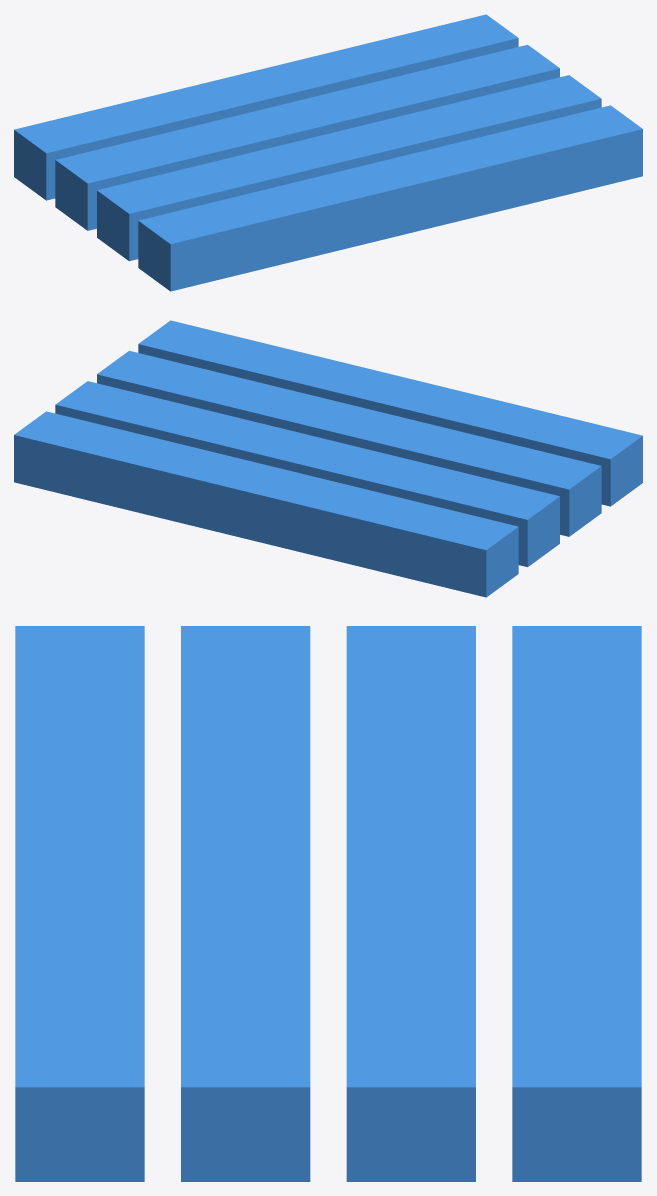
The model's file is BATTERY CRATE STACK V2__BATTERY CRATE L2__BATTERY MODULE V2 CLAMPS__BATTERY CELL BASE__CELL.glb.
3 renders of one model, top to bottom at view 1: azimuth 30°, elevation 25°; view 2: azimuth 150°, elevation 25°; view 3: azimuth 270°, elevation 25°, orthographic. The views are drawn at different scales.
Visible parts, largest first — view 1: CELL 1, CELL 17, CELL 16, CELL 32, CELL 6, CELL 19, CELL 28, CELL 29, CELL 3, CELL 18, CELL 21, CELL 23 (+20 smaller); view 2: CELL 25, CELL 9, CELL 24, CELL 8, CELL 29, CELL 10, CELL 30, CELL 5, CELL 15, CELL 27, CELL 31, CELL 6 (+20 smaller); view 3: CELL 1, CELL 2, CELL 3, CELL 6, CELL 7, CELL 8, CELL 9, CELL 11, CELL 12, CELL 13, CELL 14, CELL 15 (+20 smaller).
Boxes of the visible parts, bbox=[...] form: CELL 1: bbox=[166, 126, 642, 291]; CELL 17: bbox=[83, 65, 559, 230]; CELL 16: bbox=[125, 95, 601, 261]; CELL 32: bbox=[42, 35, 518, 200]; CELL 6: bbox=[146, 111, 622, 276]; CELL 19: bbox=[75, 59, 551, 224]; CELL 28: bbox=[26, 23, 502, 188]; CELL 29: bbox=[30, 26, 506, 191]; CELL 3: bbox=[158, 120, 634, 285]; CELL 18: bbox=[79, 62, 555, 227]; CELL 21: bbox=[67, 53, 543, 218]; CELL 23: bbox=[59, 47, 535, 212]; CELL 25: bbox=[14, 432, 490, 597]; CELL 9: bbox=[97, 371, 573, 536]; CELL 24: bbox=[55, 401, 531, 567]; CELL 8: bbox=[138, 341, 614, 506]; CELL 29: bbox=[30, 420, 506, 585]; CELL 10: bbox=[101, 368, 577, 533]; CELL 30: bbox=[34, 417, 510, 582]; CELL 5: bbox=[150, 332, 626, 497]; CELL 15: bbox=[121, 353, 597, 518]; CELL 27: bbox=[22, 426, 498, 591]; CELL 31: bbox=[38, 414, 514, 579]; CELL 6: bbox=[146, 335, 622, 500]; CELL 1: bbox=[15, 626, 31, 1181]; CELL 2: bbox=[31, 626, 47, 1181]; CELL 3: bbox=[47, 626, 63, 1181]; CELL 6: bbox=[96, 626, 112, 1181]; CELL 7: bbox=[112, 626, 128, 1181]; CELL 8: bbox=[128, 626, 144, 1181]; CELL 9: bbox=[294, 626, 310, 1181]; CELL 11: bbox=[261, 626, 277, 1181]; CELL 12: bbox=[245, 626, 261, 1181]; CELL 13: bbox=[229, 626, 245, 1181]; CELL 14: bbox=[213, 626, 229, 1181]; CELL 15: bbox=[197, 626, 213, 1181].
Bounding box in the file's own units: 0.945 × 0.0905 × 0.5425.
